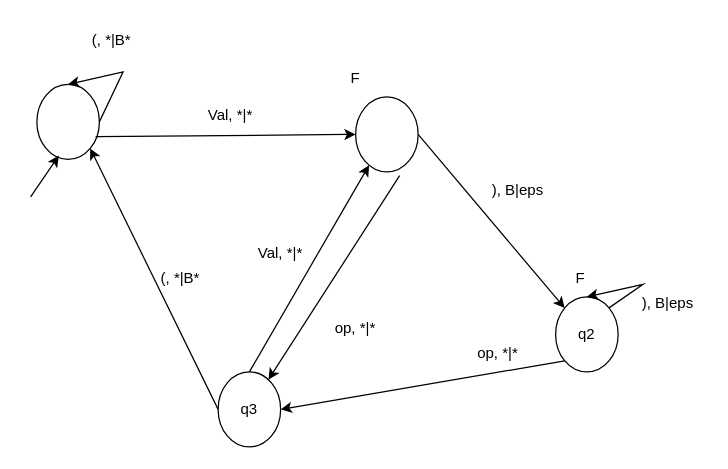
The diagram is 728 pixels wide and 469 high, and some of its shapes have lost their labels. Here are the shapes that lost their labels. From the top down, the box of each, then its label:
(36, 83, 99, 159): q0
(354, 96, 418, 172): q1
